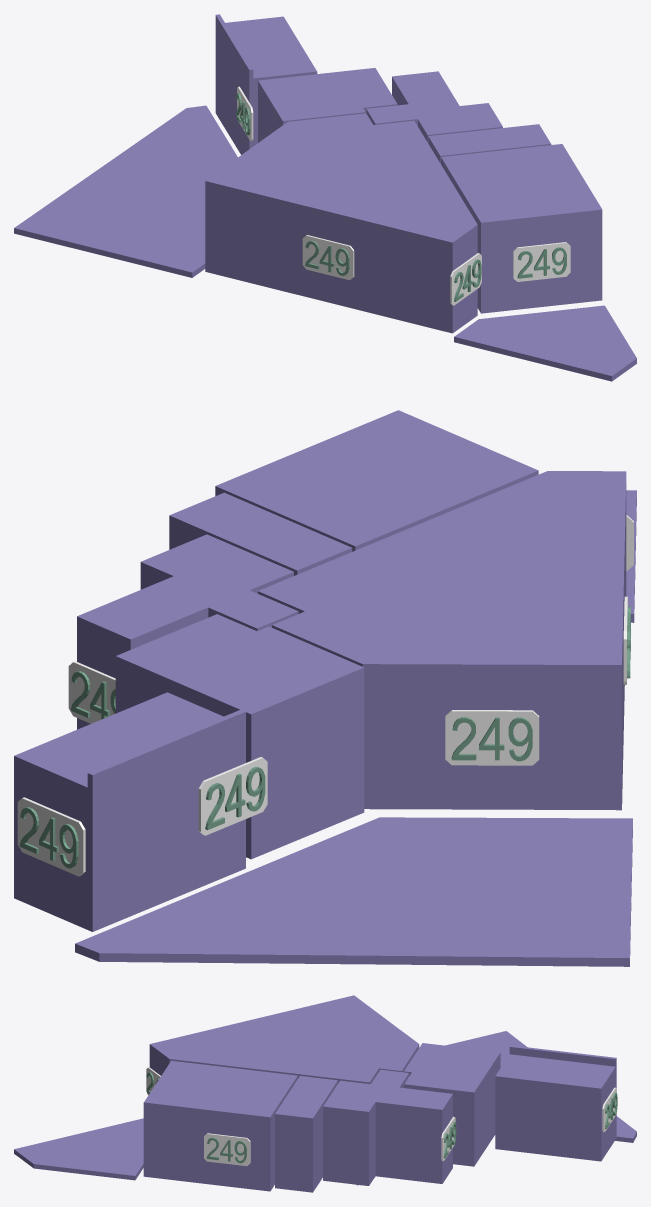
3 renders of one model, top to bottom at view 1: azimuth 30°, elevation 25°; view 2: azimuth 150°, elevation 25°; view 3: azimuth 270°, elevation 25°, orthographic. The views are drawn at different scales.
Parts seen in each view (by area): view 1: g_0, g_7, g_1, g_6, g_5, g_4, g_3, g_2, g_23, g_31, g_15; view 2: g_0, g_7, g_5, g_4, g_1, g_3, g_2, g_27, g_11, g_19, g_39, g_6; view 3: g_1, g_0, g_3, g_5, g_4, g_2, g_6, g_7, g_35.
Part boxes in pixels (left/top/right/bottom): g_0: left=205, top=113, right=477, bottom=333; g_7: left=14, top=105, right=237, bottom=277; g_1: left=441, top=144, right=602, bottom=313; g_6: left=454, top=305, right=636, bottom=381; g_5: left=215, top=14, right=317, bottom=154; g_4: left=258, top=68, right=397, bottom=142; g_3: left=366, top=71, right=502, bottom=142; g_2: left=428, top=124, right=551, bottom=163; g_23: left=513, top=242, right=570, bottom=281; g_31: left=302, top=235, right=354, bottom=280; g_15: left=450, top=253, right=481, bottom=305; g_0: left=258, top=471, right=626, bottom=810; g_7: left=75, top=817, right=632, bottom=966; g_5: left=14, top=692, right=245, bottom=931; g_4: left=115, top=614, right=364, bottom=859; g_1: left=215, top=410, right=538, bottom=551; g_3: left=77, top=534, right=298, bottom=729; g_2: left=169, top=492, right=352, bottom=575; g_27: left=445, top=710, right=539, bottom=765; g_11: left=198, top=757, right=267, bottom=835; g_19: left=17, top=797, right=85, bottom=876; g_39: left=68, top=661, right=115, bottom=723; g_6: left=626, top=490, right=636, bottom=622; g_1: left=143, top=1060, right=297, bottom=1191; g_0: left=149, top=995, right=419, bottom=1084; g_3: left=323, top=1069, right=452, bottom=1185; g_5: left=495, top=1045, right=616, bottom=1161; g_4: left=404, top=1043, right=500, bottom=1166; g_2: left=275, top=1076, right=337, bottom=1192; g_6: left=14, top=1118, right=143, bottom=1180; g_7: left=445, top=1031, right=636, bottom=1142; g_35: left=204, top=1133, right=250, bottom=1166.
Bounding box in the file's own units: 11.69 × 2.85 × 18.97.
